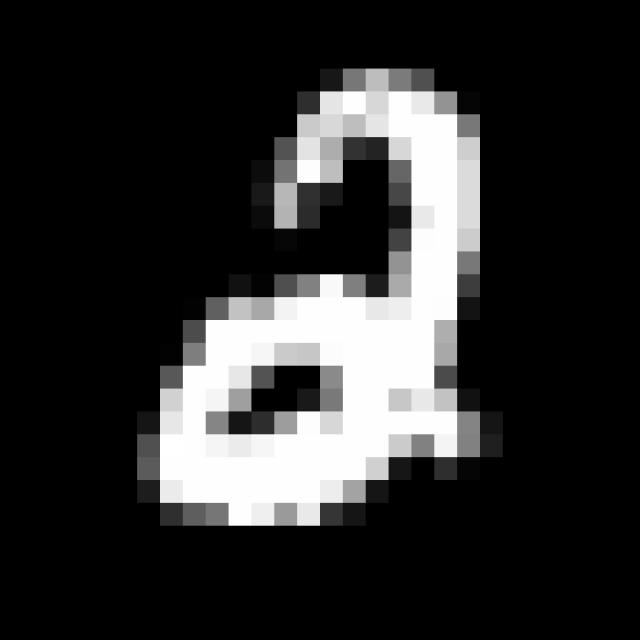two -2-: (137, 42, 505, 550)
